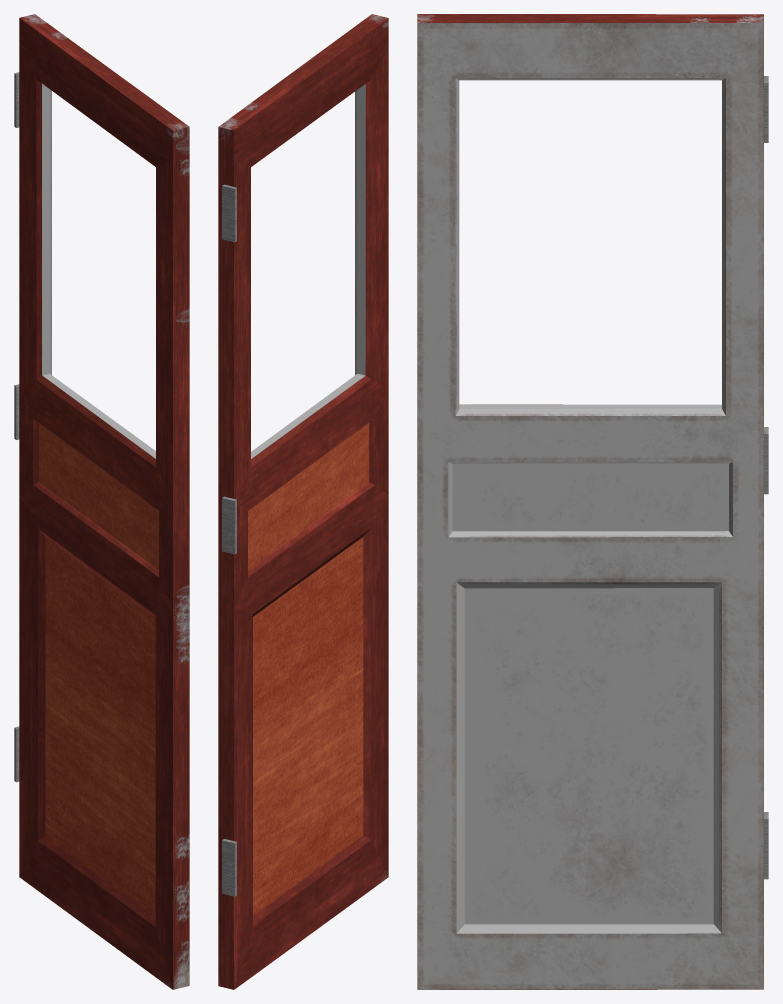
File: SM_Front_Door_2.fbx
3 views of the same model, side by side, from view 1: azimuth 30°, elevation 25°; view 2: azimuth 150°, elevation 25°; view 3: azimuth 270°, elevation 25° (orthographic). The views are drawn at different scales.
Visible parts, largest first — view 1: SM_Front_Door_2; view 2: SM_Front_Door_2; view 3: SM_Front_Door_2.
Boxes of the visible parts, box(x1,y1,x2,y2) form: SM_Front_Door_2: box(14, 14, 189, 989); SM_Front_Door_2: box(218, 14, 388, 989); SM_Front_Door_2: box(417, 14, 768, 989).
Bounding box in the file's own units: 5.07 × 71.62 × 218.
1 material, 1 textured.
